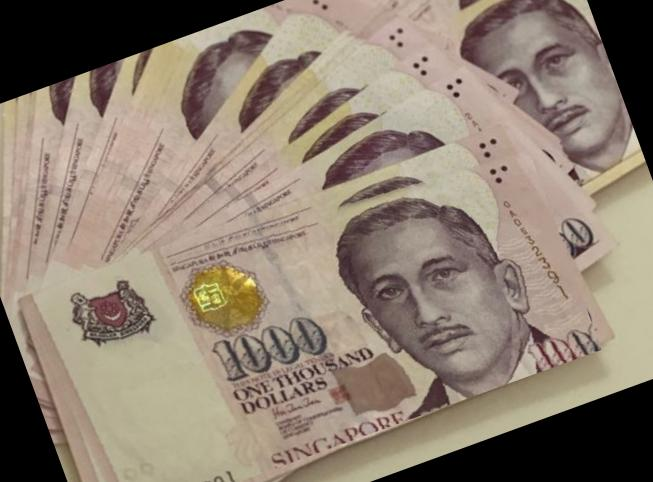1000SingaporeDollar: (19, 121, 601, 482)
